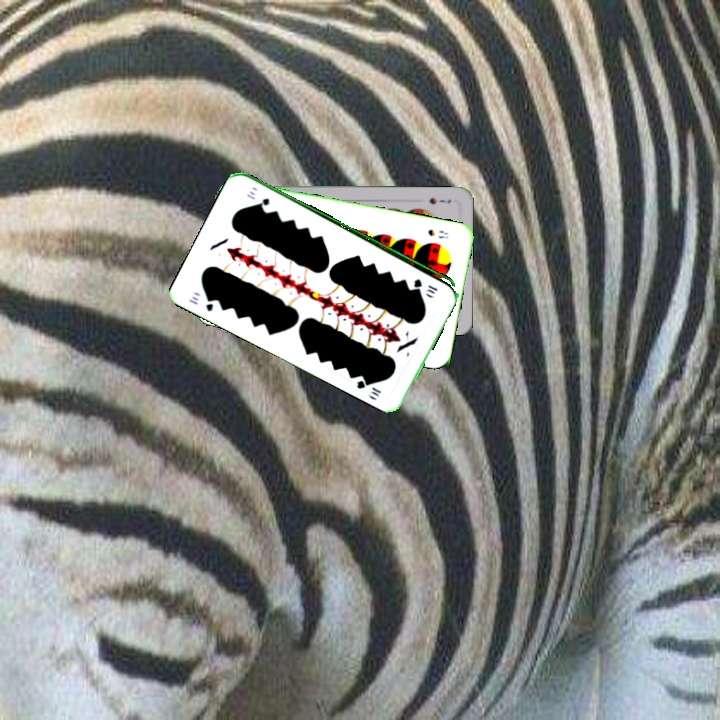G10: (185, 293, 217, 314), (410, 275, 440, 294)
S7: (425, 193, 453, 207)
S8: (424, 225, 451, 241)
